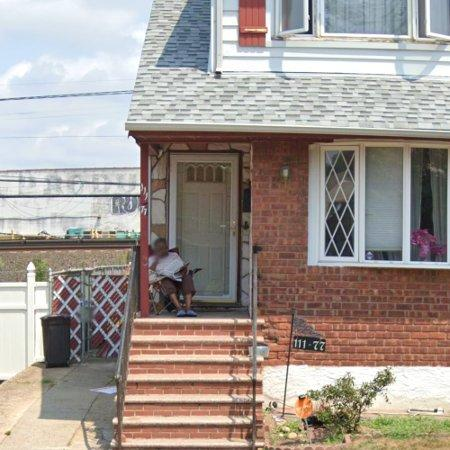stairs: (122, 319, 251, 450)
